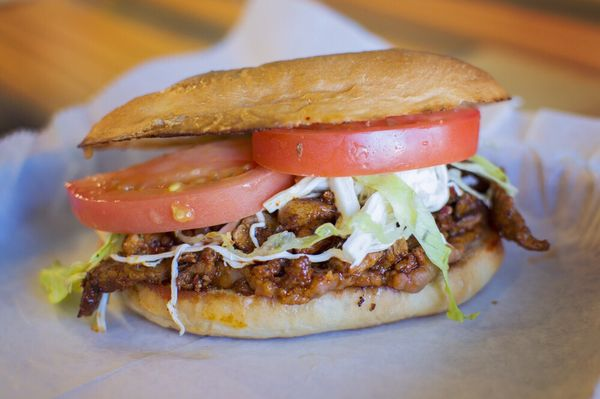soup: (57, 49, 526, 340)
